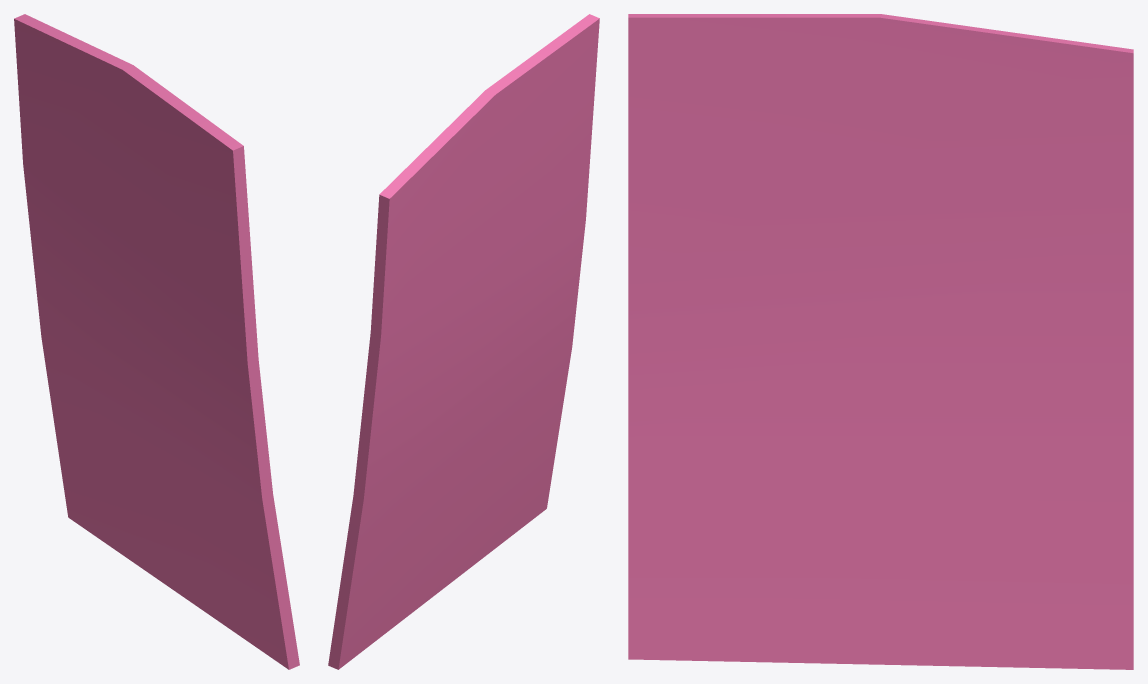
Rendered from Note_1_2.glb.
The picture shows the model from 3 angles, left to right: view 1: azimuth 30°, elevation 25°; view 2: azimuth 150°, elevation 25°; view 3: azimuth 270°, elevation 25°; orthographic projection. The views are drawn at different scales.
Visible parts, largest first — view 1: Note_1_2; view 2: Note_1_2; view 3: Note_1_2.
Part boxes in pixels (x1,y1,x2,y2): Note_1_2: (14,14,299,669); Note_1_2: (328,14,599,669); Note_1_2: (628,14,1133,669).
Size of the model in its own units: 0.0384 by 0.2976 by 0.2189.
Materials: 1 (1 with a texture image).
